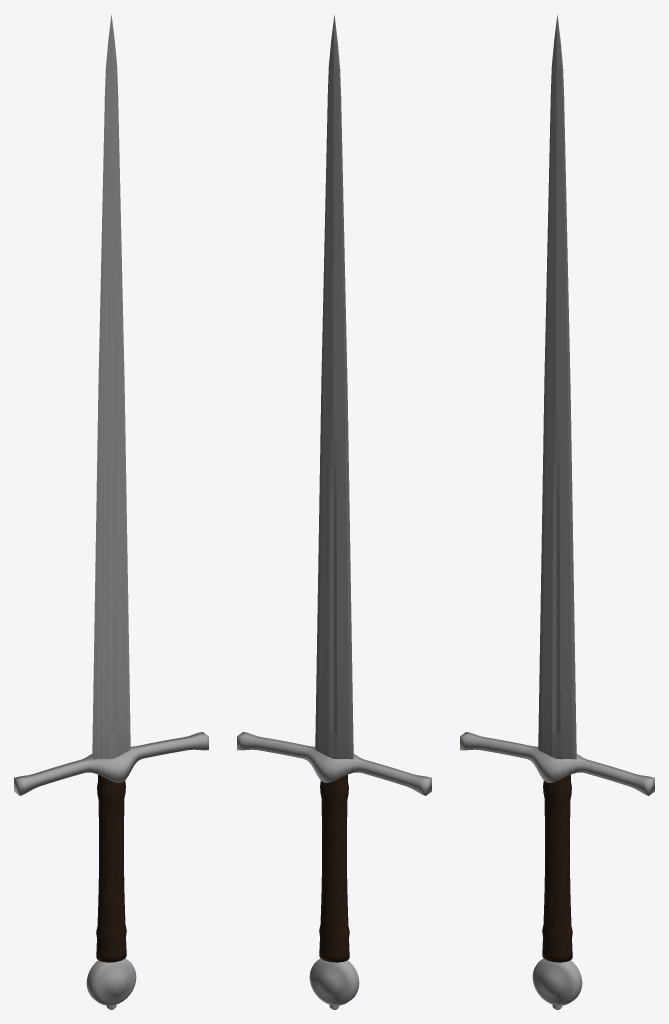
Rendered from longsword_xva_v006.glb.
3 views of the same model, side by side, from view 1: azimuth 30°, elevation 25°; view 2: azimuth 150°, elevation 25°; view 3: azimuth 330°, elevation 25° (orthographic).
Visible parts, largest first — view 1: blade, grip, crossguard, pommel; view 2: blade, grip, crossguard, pommel; view 3: blade, grip, crossguard, pommel.
Part boxes in pixels (<box>): blade: <box>92,14,130,759</box>; grip: <box>96,774,126,962</box>; crossguard: <box>14,732,208,795</box>; pommel: <box>86,958,136,1005</box>; blade: <box>315,14,353,759</box>; grip: <box>319,774,349,962</box>; crossguard: <box>237,732,431,795</box>; pommel: <box>309,958,359,1005</box>; blade: <box>538,14,576,759</box>; grip: <box>542,774,572,962</box>; crossguard: <box>460,732,654,795</box>; pommel: <box>532,958,582,1005</box>.
Bounding box in the file's own units: 0.244 × 1.23 × 0.043.
Materials: 3 (2 with a texture image).
